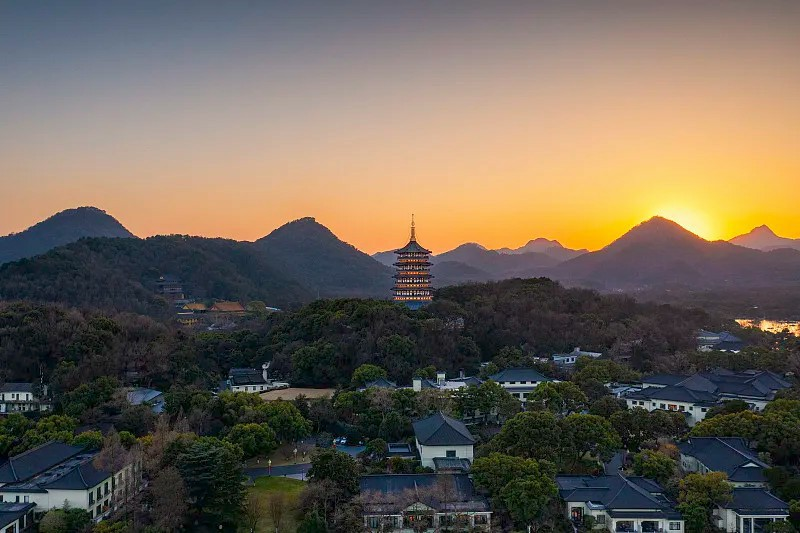Leifeng: (390, 211, 434, 314)
